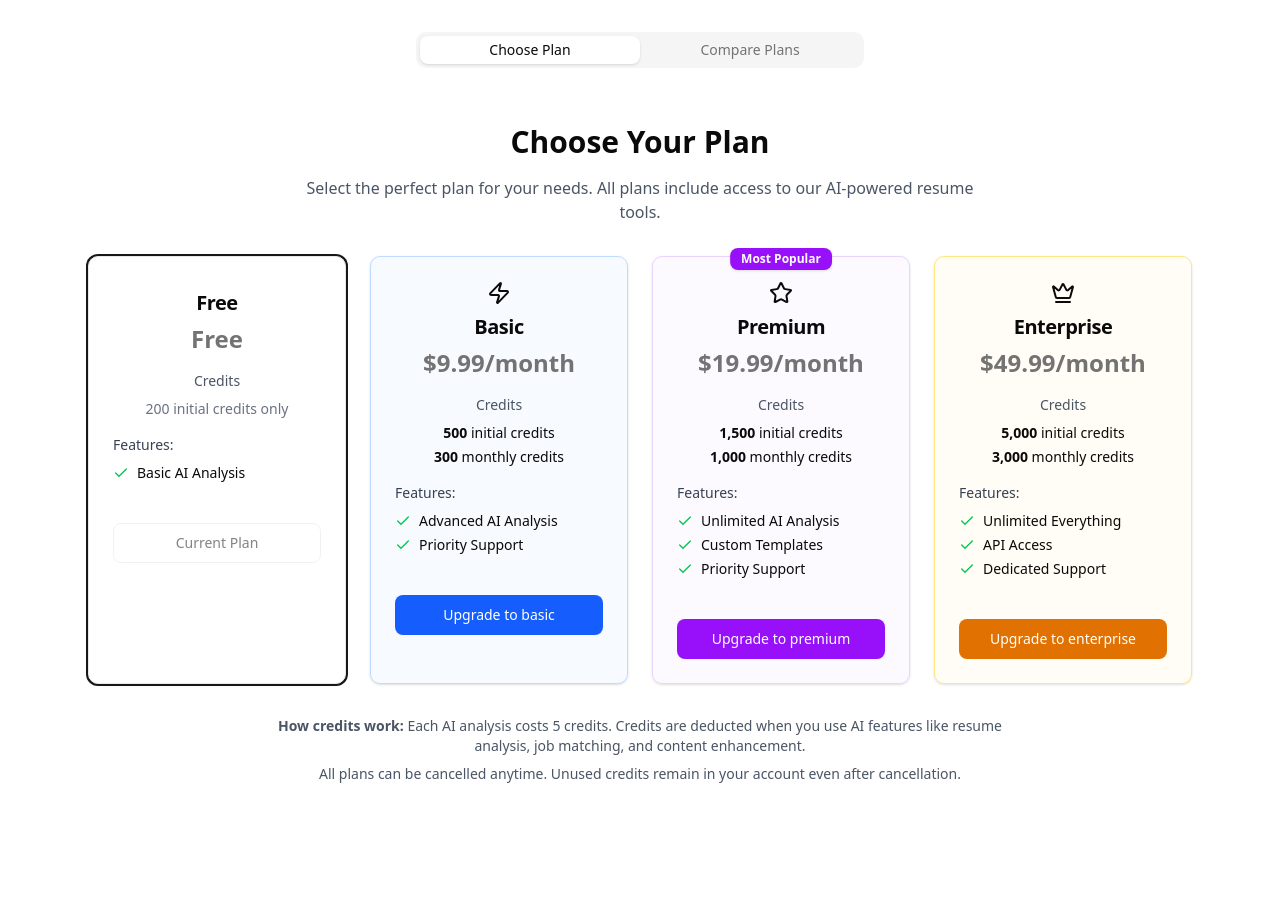
Test case: SubscriptionManagement › navigates to purchase flow when plan is selected
// Select premium plan
Click the button "Upgrade to premium" at (781, 639), box [677,619,885,659]
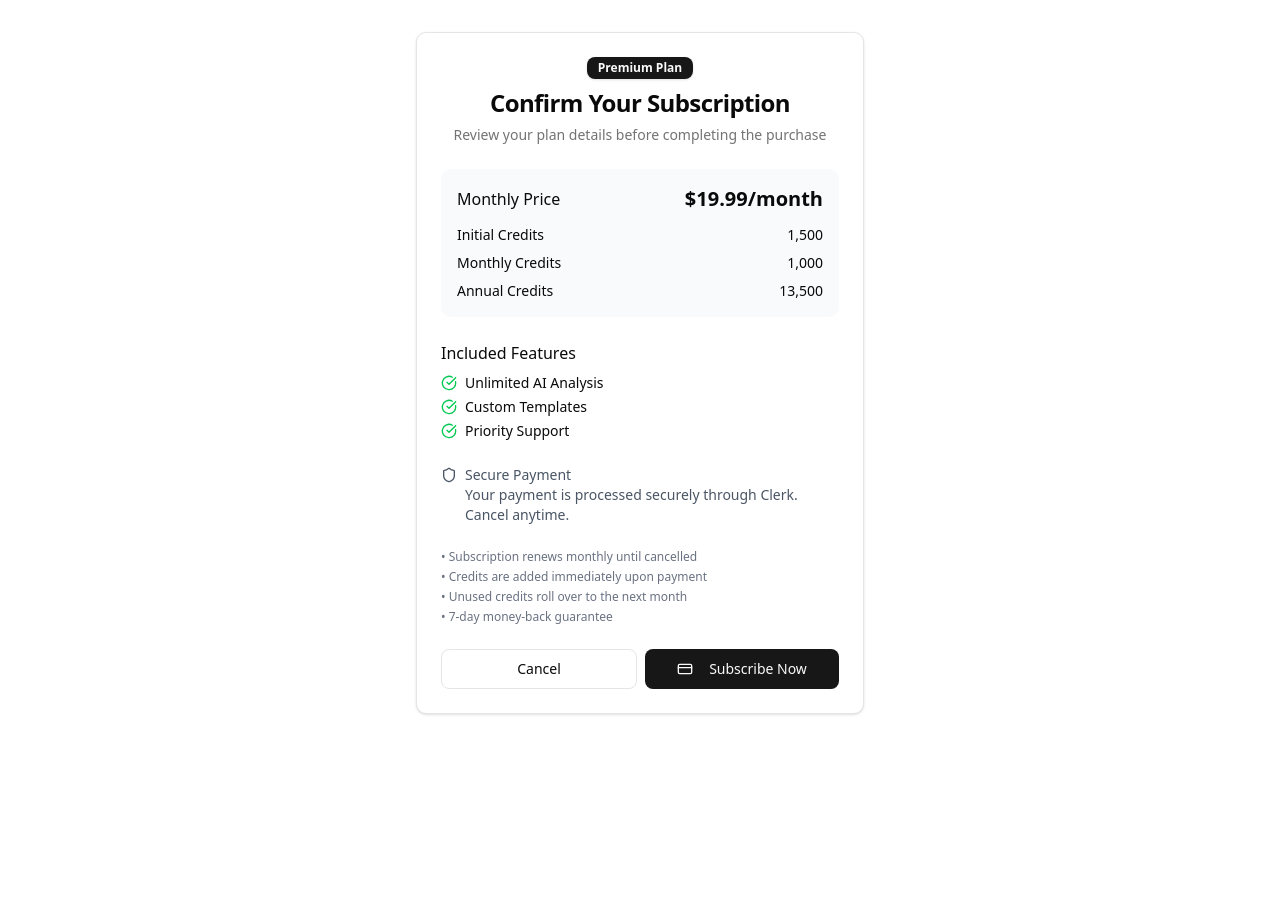
Check: the text "$19.99/month" is shown, box [685,185,823,213]
Check: the text "Confirm Your Subscription" is shown, box [490,86,790,119]
Check: the text "premium Plan" is shown, box [587,57,693,79]
